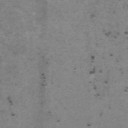oxide scale of temperature system: (90, 68, 95, 74), (8, 98, 12, 104), (91, 56, 94, 60)
